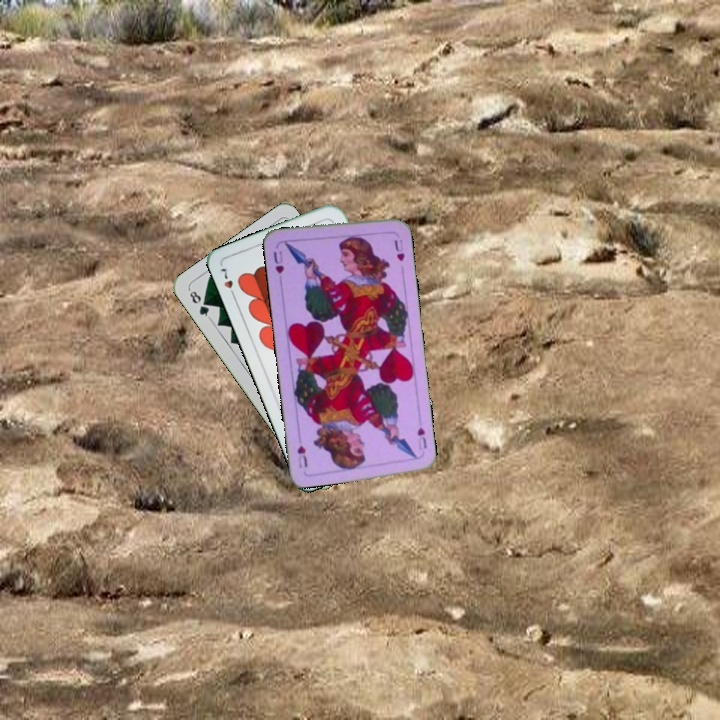G8: (185, 286, 213, 321)
H7: (216, 264, 238, 301)
HU: (269, 246, 287, 276), (413, 424, 429, 452)
